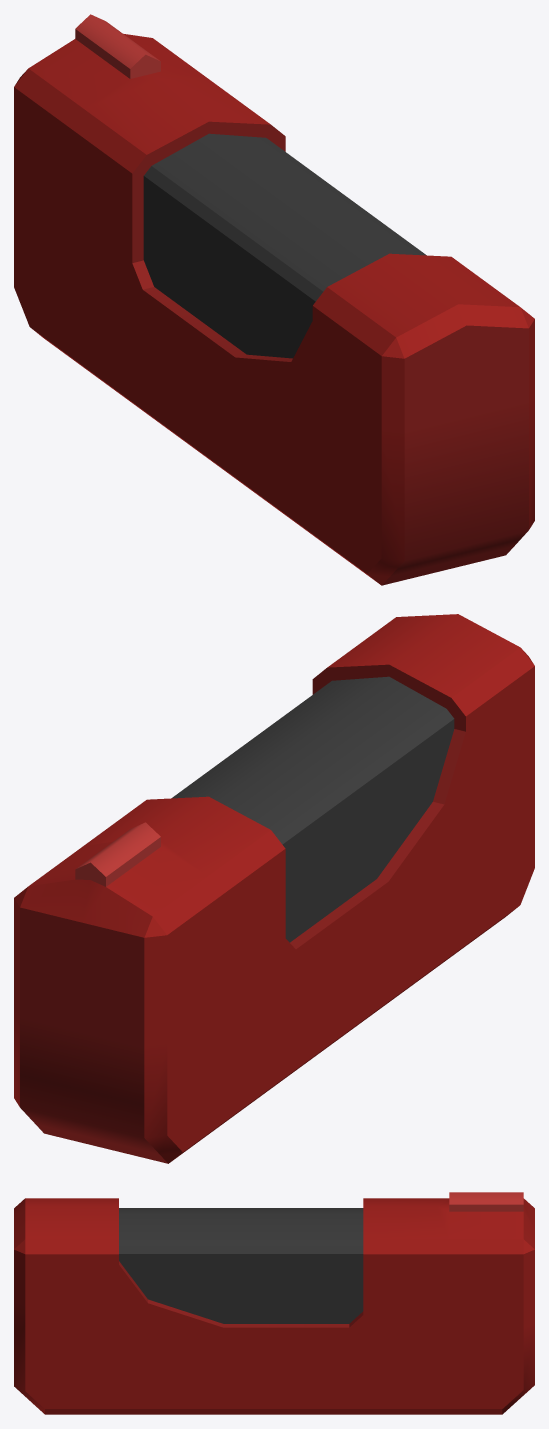
File: Msh_Base_A.FBX
The picture shows the model from 3 angles, top to bottom: view 1: azimuth 30°, elevation 25°; view 2: azimuth 150°, elevation 25°; view 3: azimuth 270°, elevation 25°; orthographic projection. The views are drawn at different scales.
Parts seen in each view (by area): view 1: Msh_Base_A; view 2: Msh_Base_A; view 3: Msh_Base_A.
Part boxes in pixels (x1,y1,x2,y2): Msh_Base_A: [14, 14, 534, 585]; Msh_Base_A: [14, 614, 534, 1163]; Msh_Base_A: [14, 1192, 534, 1414].
Size of the model in its own units: 0.0508 by 0.2208 by 0.0943.
